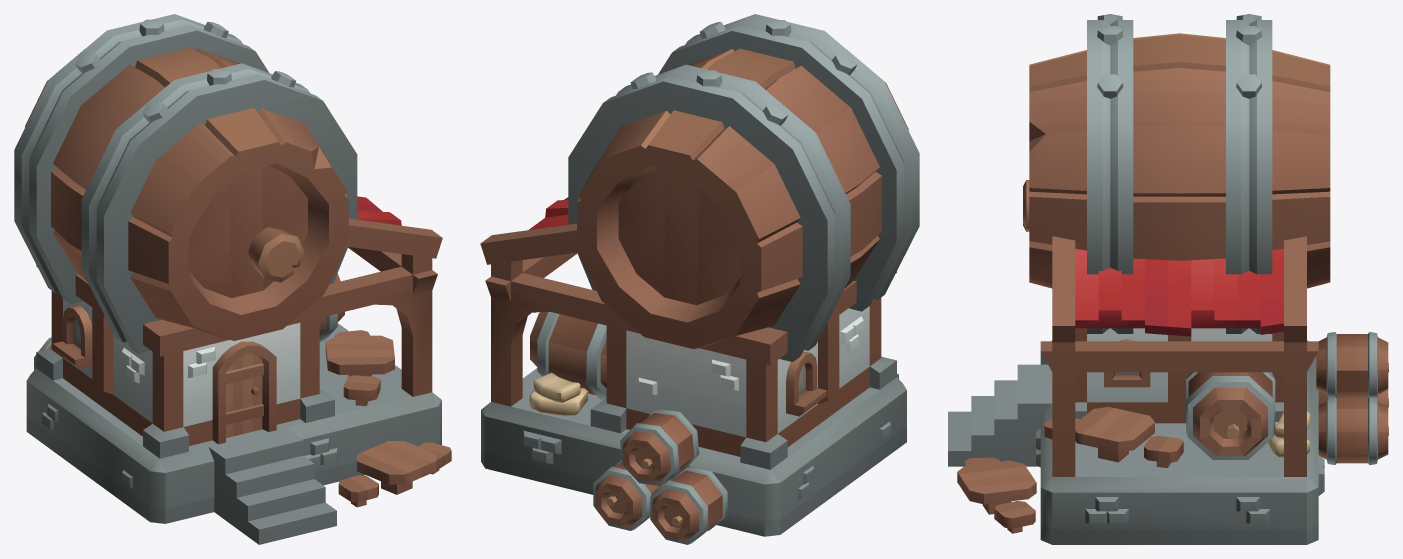
Rendered from building_tavern-DoNe8PIQ.glb.
The picture shows the model from 3 angles, left to right: view 1: azimuth 30°, elevation 25°; view 2: azimuth 150°, elevation 25°; view 3: azimuth 270°, elevation 25°; orthographic projection. The views are drawn at different scales.
Visible parts, largest first — view 1: building_tavern_red; view 2: building_tavern_red; view 3: building_tavern_red.
Boxes of the visible parts, box(x1,y1,x2,y2) form: building_tavern_red: box(14, 14, 451, 544); building_tavern_red: box(480, 14, 919, 544); building_tavern_red: box(948, 14, 1388, 544).
Size of the model in its own units: 6.44 by 7.68 by 7.33.
Materials: 1 (1 with a texture image).
